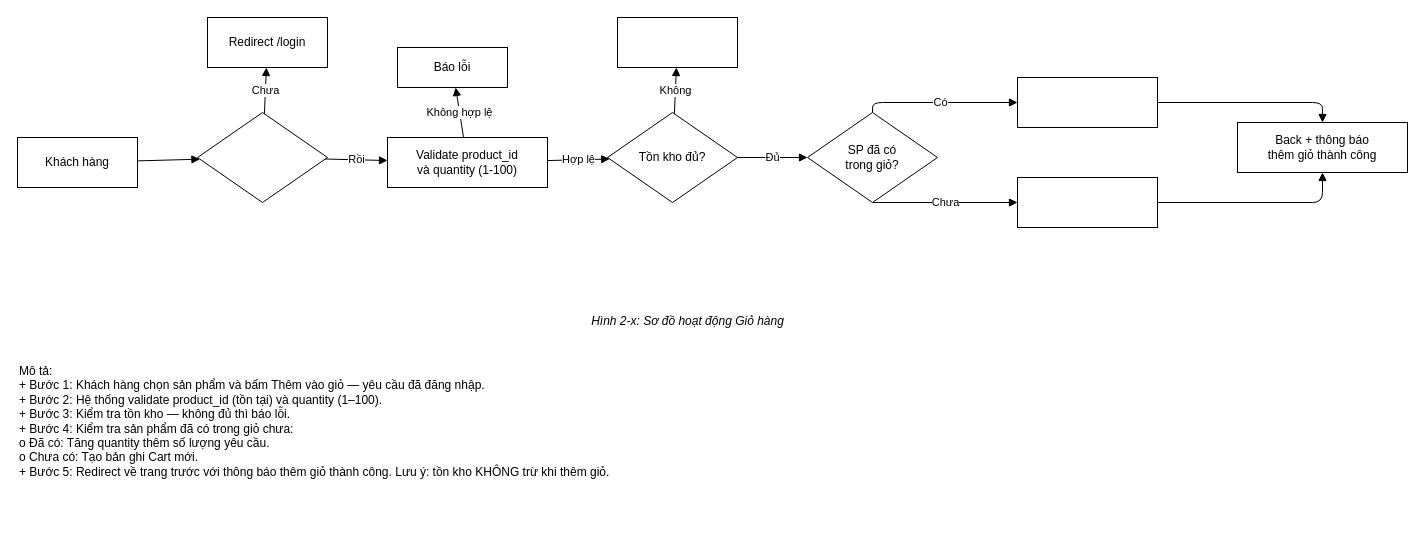
Some shapes in this 1425 by 535 pixel diagram are drawn without their labels. Each missing label, with the centre of its shape:
"Báo không đủ tồn kho" goes at (x=677, y=42).
"Tăng quantity" goes at (x=1087, y=102).
"Tạo Cart mới" goes at (x=1087, y=202).
"Đã đăng nhập?" goes at (x=262, y=157).
